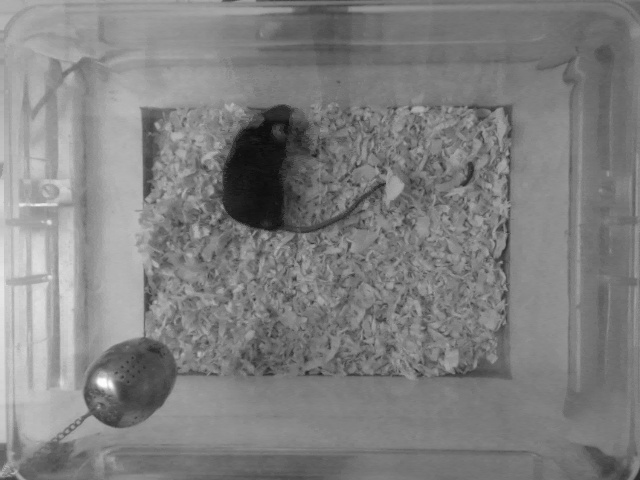mice: (214, 102, 382, 235)
